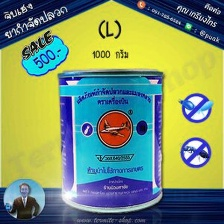insecticide: (54, 66, 165, 214)
